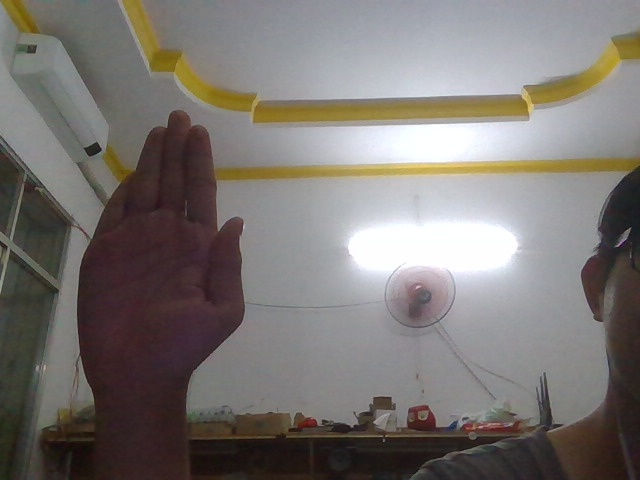stop: (67, 103, 261, 396)
